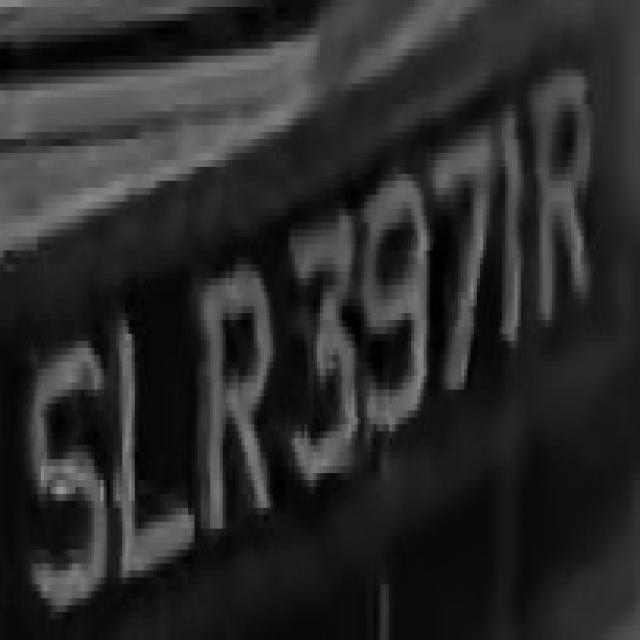1: (489, 77, 534, 376)
3: (279, 202, 364, 487)
7: (420, 132, 496, 404)
9: (348, 181, 436, 459)
L: (107, 306, 207, 577)
R: (195, 272, 279, 564), (524, 56, 599, 341)
S: (25, 313, 104, 619)
